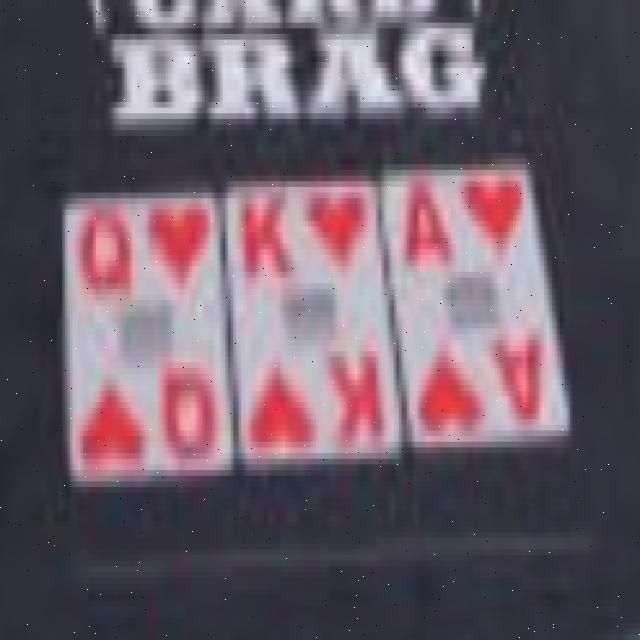Card-A: (383, 163, 566, 447)
Card-K: (228, 186, 400, 459)
Card-Q: (66, 193, 231, 483)
